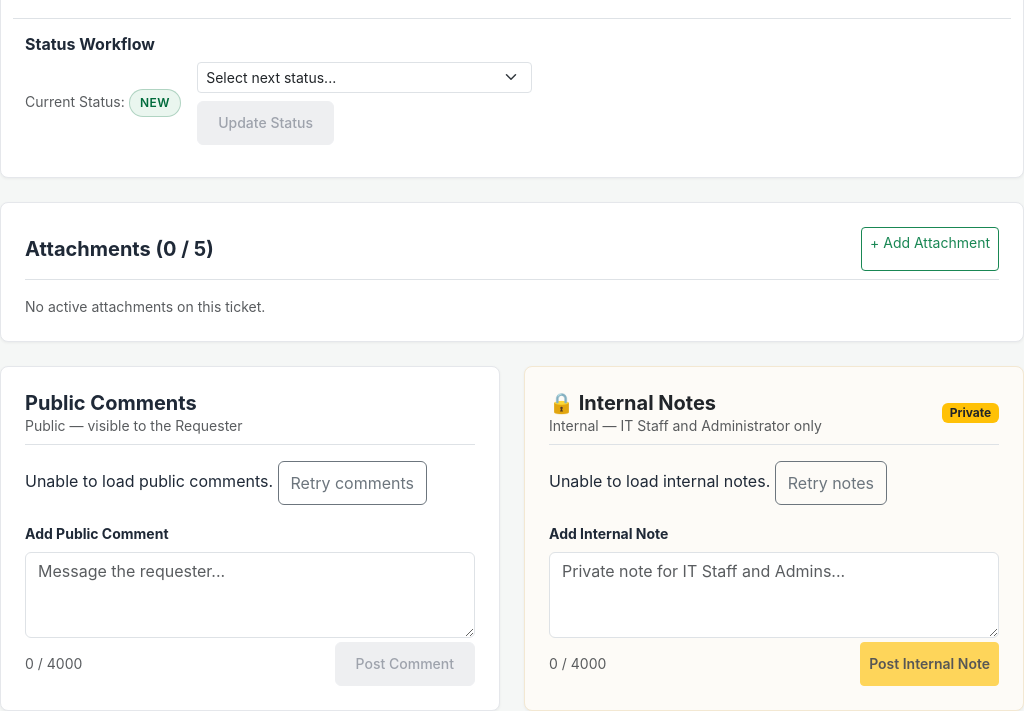
Test: Issue 35 integrated feedback regressions › distinguishes discussion load failures from empty threads and permits retry
The image size is (1024, 711).
(page scrolled)
Expected: the text "Unable to load public comments." is shown, [25, 471, 278, 491]
Expected: the text "No public comments yet." is not shown
Click the button "Retry comments": [352, 483] box [278, 461, 427, 505]
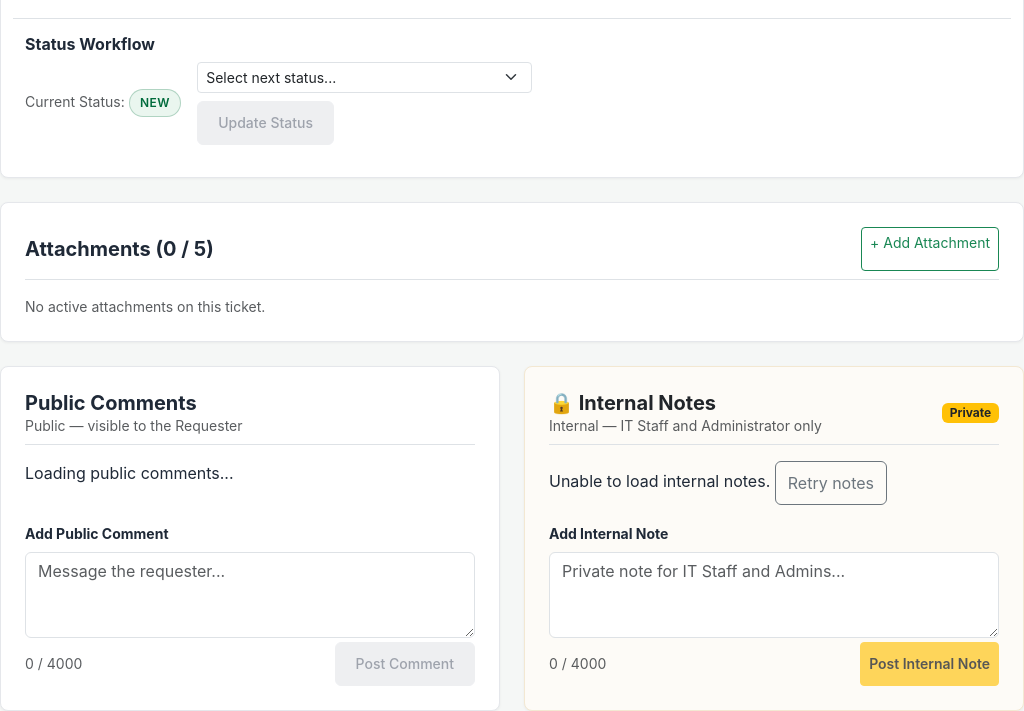
Click the button "Retry notes": [831, 483] box [775, 461, 887, 505]
(page scrolled)
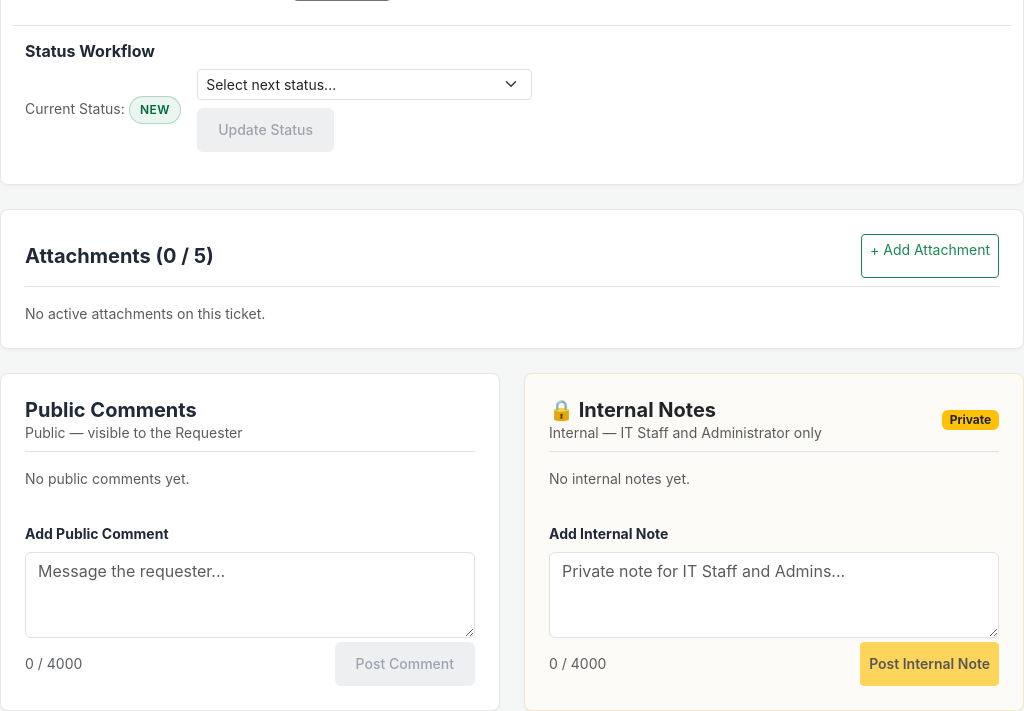
Result: the text "No public comments yet." is shown at [25, 470, 190, 487]
Result: the text "No internal notes yet." is shown at [549, 470, 690, 487]
